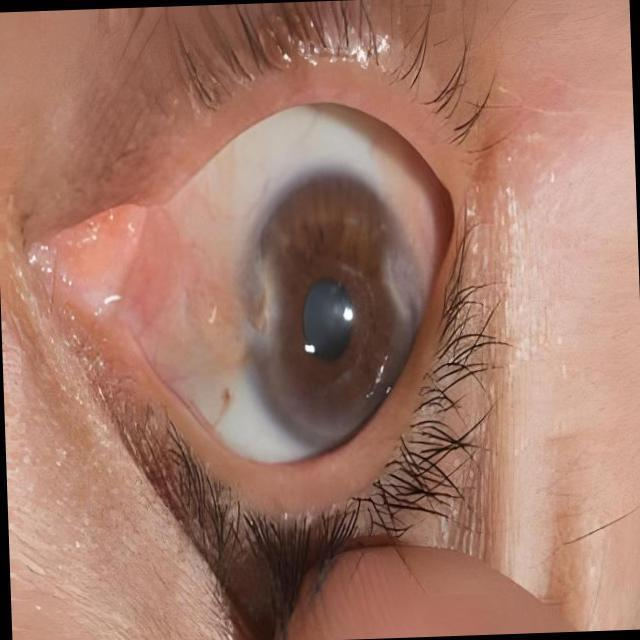Pterygium: (54, 182, 300, 410)
